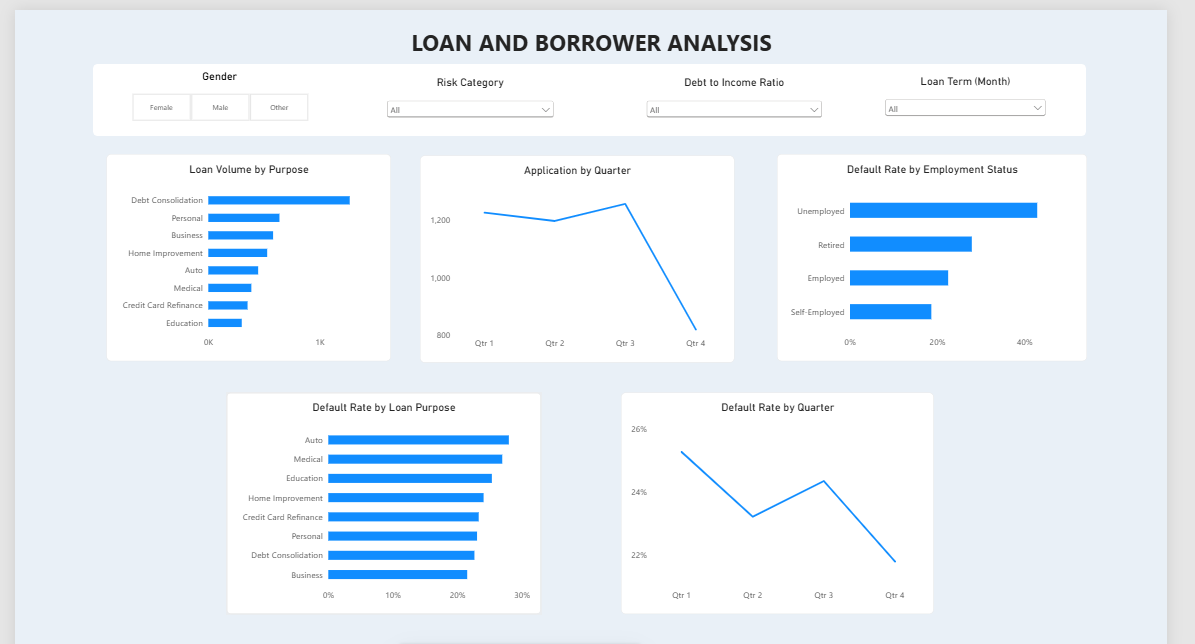

This screenshot's page, from the dashboard's own definition file:
{"tool":"powerbi","page":{"name":"Loan and Borrower Analysis","canvas":[1920,1080],"ordinal":2},"visuals":[{"type":"shape","box":[130,90,1655,120],"z":0},{"type":"clusteredBarChart","title":"Loan Volume by Purpose","fields":{"Category":["analytics vw_CreditRiskAnalysis.loan_purpose"],"Y":["CountNonNull(analytics vw_CreditRiskAnalysis.customer_id)"]},"box":[152.5,240,473.8,345.2],"z":1000},{"type":"clusteredBarChart","title":"Default Rate by Loan Purpose","fields":{"Category":["analytics vw_CreditRiskAnalysis.loan_purpose"],"Y":["analytics vw_CreditRiskAnalysis.Default Rate"]},"box":[352.5,637.5,523.8,369],"z":3000},{"type":"barChart","title":"Default Rate by Employment Status","fields":{"Category":["analytics vw_CreditRiskAnalysis.employment_status"],"Y":["analytics vw_CreditRiskAnalysis.Default Rate"]},"box":[1269,240.5,516.7,345.2],"z":4000},{"type":"lineChart","title":"Application by Quarter","fields":{"Category":["analytics vw_CreditRiskAnalysis.application_date.Variation.Date Hierarchy.Quarter"],"Y":["CountNonNull(analytics vw_CreditRiskAnalysis.customer_id)"]},"box":[676.2,242.9,523.8,345.2],"z":5000},{"type":"lineChart","title":"Default Rate by Quarter","fields":{"Category":["analytics vw_CreditRiskAnalysis.application_date.Variation.Date Hierarchy.Quarter"],"Y":["analytics vw_CreditRiskAnalysis.Default Rate"]},"box":[1010,637.5,521.4,369],"z":6000},{"type":"textbox","box":[532.5,27.5,857.5,50],"z":7000},{"type":"slicer","title":"Gender","fields":{"Values":["analytics vw_CreditRiskAnalysis.gender"]},"box":[175,100,332.5,100],"z":8000},{"type":"slicer","title":"Risk Category","fields":{"Values":["analytics vw_CreditRiskAnalysis.risk_category"]},"box":[615,110,287.5,75],"z":9000},{"type":"slicer","title":"Loan Term (Month)","fields":{"Values":["analytics vw_CreditRiskAnalysis.loan_term_months"]},"box":[1445,107.5,277.5,92.5],"z":10000},{"type":"slicer","title":"Debt to Income Ratio","fields":{"Values":["analytics vw_CreditRiskAnalysis.debt_to_income_ratio (bins)"]},"box":[1047.5,110,302.5,92.5],"z":11000}]}

Visuals, with their boxes on the page's 1920x1080 design canvas (x1, y1, x2, y2). These are canvas units, not pixel positions in the 1195x644 screenshot, which may show the page scaled, cropped or inside an application window:
shape: l=130, t=90, r=1785, b=210
"Loan Volume by Purpose" clusteredBarChart: l=152, t=240, r=626, b=585
"Default Rate by Loan Purpose" clusteredBarChart: l=352, t=638, r=876, b=1006
"Default Rate by Employment Status" barChart: l=1269, t=240, r=1786, b=586
"Application by Quarter" lineChart: l=676, t=243, r=1200, b=588
"Default Rate by Quarter" lineChart: l=1010, t=638, r=1531, b=1006
textbox: l=532, t=28, r=1390, b=78
"Gender" slicer: l=175, t=100, r=508, b=200
"Risk Category" slicer: l=615, t=110, r=902, b=185
"Loan Term (Month)" slicer: l=1445, t=108, r=1722, b=200
"Debt to Income Ratio" slicer: l=1048, t=110, r=1350, b=202
